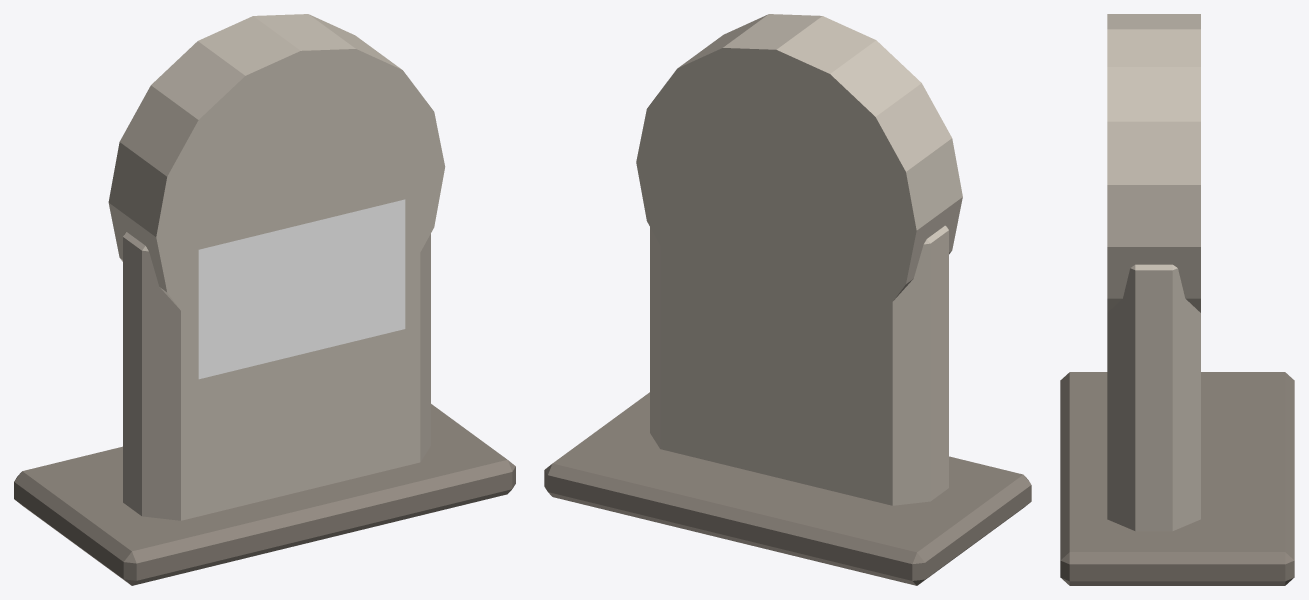
Rendered from tombstone.fbx.
3 views of the same model, side by side, from view 1: azimuth 30°, elevation 25°; view 2: azimuth 150°, elevation 25°; view 3: azimuth 270°, elevation 25° (orthographic). The views are drawn at different scales.
Parts seen in each view (by area): view 1: tombstone; view 2: tombstone; view 3: tombstone.
Boxes of the visible parts, <box> form: tombstone: <box>14,14,515,585</box>; tombstone: <box>544,14,1031,585</box>; tombstone: <box>1060,14,1294,585</box>.
Bounding box in the file's own units: 0.95 × 1.1 × 0.5.
